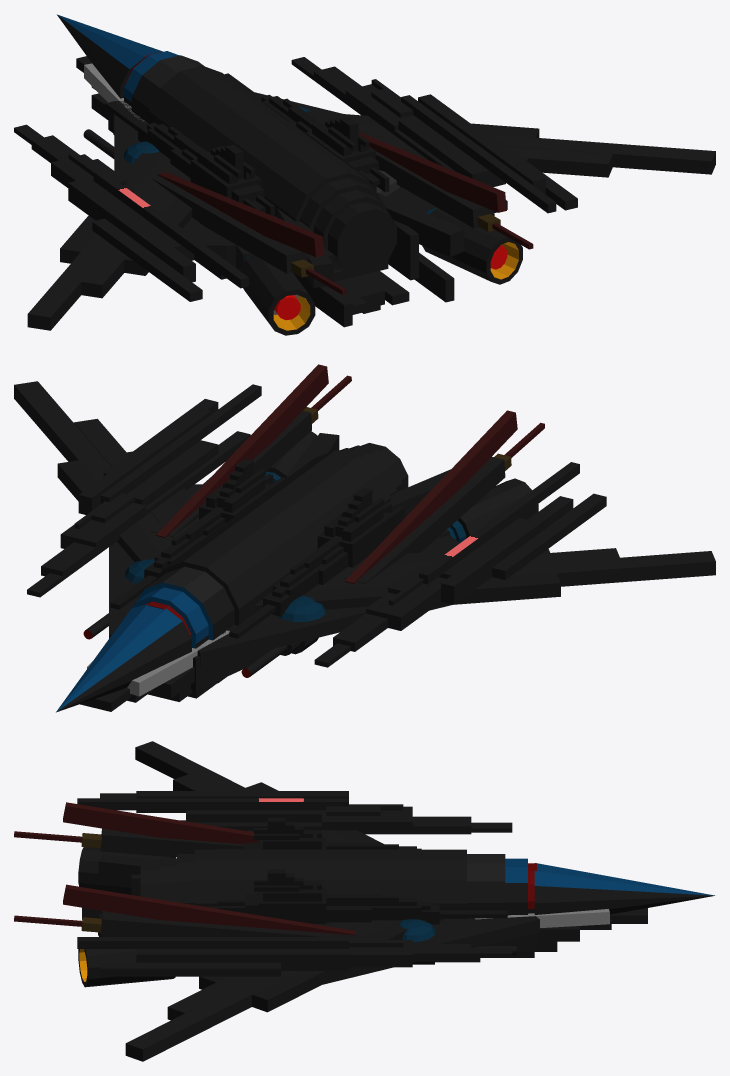
File: PlayerShip_3D_Scale1.gltf
3 renders of one model, top to bottom at view 1: azimuth 30°, elevation 25°; view 2: azimuth 150°, elevation 25°; view 3: azimuth 270°, elevation 25°, orthographic. The views are drawn at different scales.
Parts seen in each view (by area): view 1: cube (×34), cylinder (×6), tube (×2), cone, Bottom (×2), Head; view 2: cube (×35), cylinder (×4), cone, tube (×2), Head (×3), sphere; view 3: cube (×31), cylinder (×6), cone, tube (×2), Head (×2), sphere.
Boxes of the visible parts, bbox=[...] form: cube (×34): bbox=[27, 66, 715, 330]; cylinder (×6): bbox=[124, 51, 396, 274]; tube (×2): bbox=[239, 208, 522, 335]; cone: bbox=[57, 14, 162, 98]; Bottom (×2): bbox=[338, 271, 409, 308]; Head: bbox=[84, 63, 144, 121]; cube (×35): bbox=[14, 364, 715, 690]; cylinder (×4): bbox=[131, 448, 396, 648]; cone: bbox=[56, 604, 191, 712]; tube (×2): bbox=[266, 431, 538, 538]; Head (×3): bbox=[80, 630, 229, 711]; sphere: bbox=[278, 595, 325, 621]; cube (×31): bbox=[63, 741, 539, 1061]; cylinder (×6): bbox=[140, 849, 527, 918]; cone: bbox=[534, 863, 714, 914]; tube (×2): bbox=[78, 847, 175, 987]; Head (×2): bbox=[475, 909, 609, 941]; sphere: bbox=[399, 919, 434, 941].
Size of the model in its own units: 16.11 by 2.75 by 15.5.
1 material, 1 textured.
